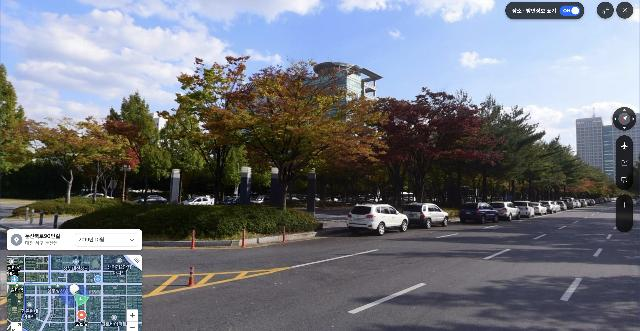other: (178, 48, 392, 216), (355, 86, 499, 207), (450, 88, 550, 206), (18, 116, 113, 204), (99, 89, 171, 203), (519, 131, 585, 203), (0, 62, 32, 201), (561, 159, 611, 200)
